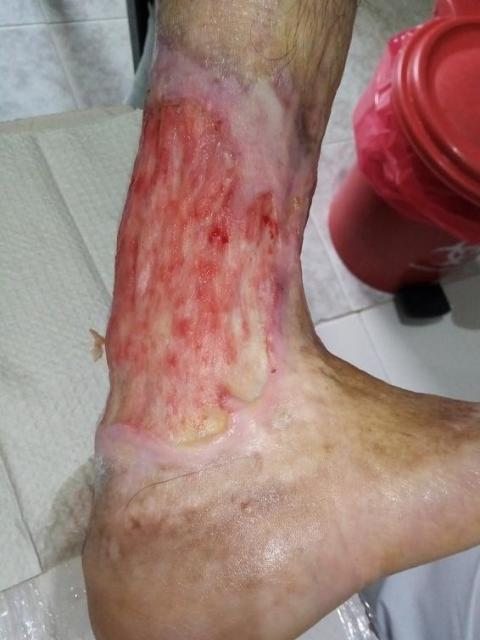wound: (99, 88, 289, 447)
